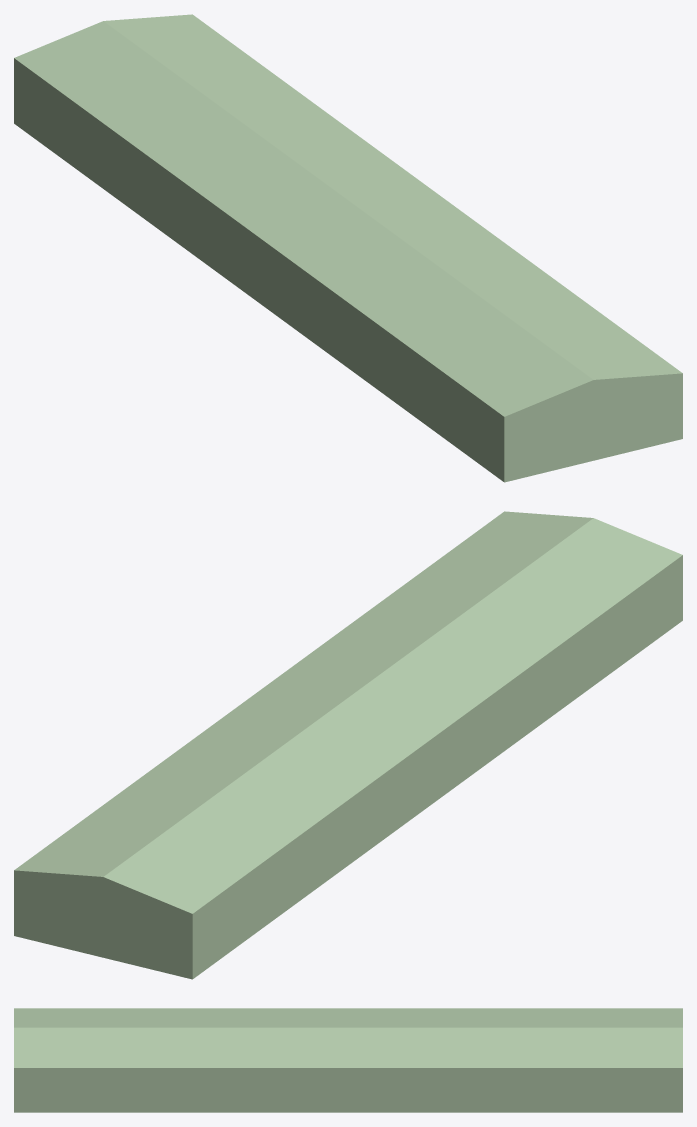
The model's file is light.fbx.
3 views of the same model, one above another, from view 1: azimuth 30°, elevation 25°; view 2: azimuth 150°, elevation 25°; view 3: azimuth 270°, elevation 25° (orthographic). The views are drawn at different scales.
Parts seen in each view (by area): view 1: flourescent_light; view 2: flourescent_light; view 3: flourescent_light.
Boxes of the visible parts, bbox=[...] form: flourescent_light: bbox=[14, 14, 682, 482]; flourescent_light: bbox=[14, 511, 682, 979]; flourescent_light: bbox=[14, 1008, 682, 1112].
Size of the model in its own units: 398 by 190 by 1891.
